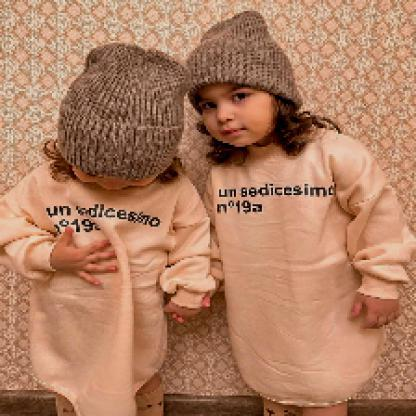child: (187, 10, 416, 415), (1, 40, 219, 416)
